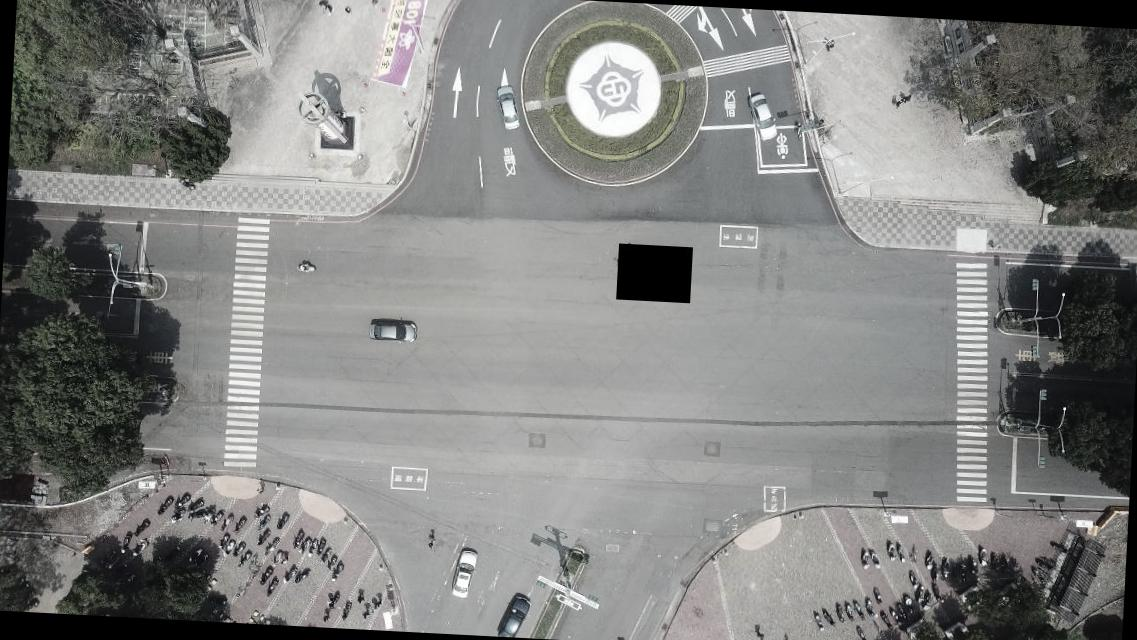vehicle: (496, 592, 534, 638), (747, 93, 780, 143), (449, 548, 478, 598), (494, 84, 523, 132), (367, 318, 416, 344)
